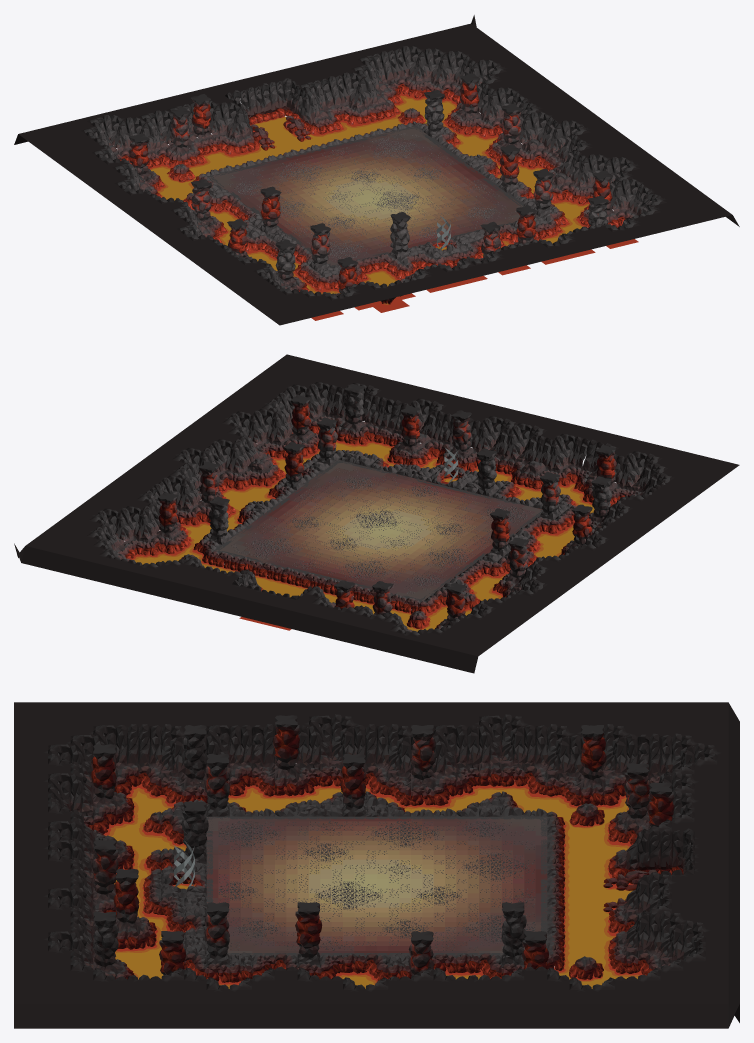
3 renders of one model, top to bottom at view 1: azimuth 30°, elevation 25°; view 2: azimuth 150°, elevation 25°; view 3: azimuth 270°, elevation 25°, orthographic. The views are drawn at different scales.
Visible parts, largest first — view 1: region_0_0_9043; view 2: region_0_0_9043; view 3: region_0_0_9043.
Boxes of the visible parts, x1,y1,x2,y2 form: region_0_0_9043: (14,15,739,325); region_0_0_9043: (14,354,739,673); region_0_0_9043: (14,702,739,1028).
Bounding box in the file's own units: 64 × 6.38 × 64.
